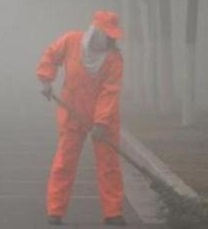person: (34, 9, 136, 225)
